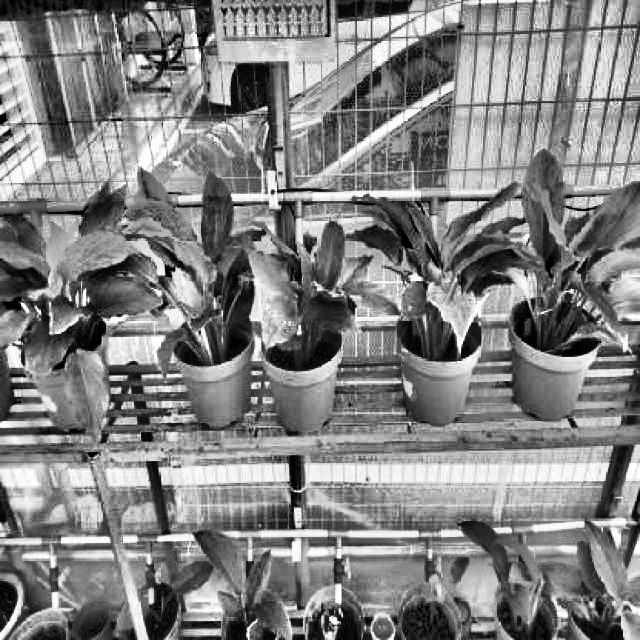plants: (0, 174, 160, 442), (344, 184, 536, 362), (117, 166, 277, 372), (516, 147, 638, 370), (249, 214, 397, 364), (458, 514, 592, 640), (184, 516, 310, 638), (576, 504, 638, 638)
